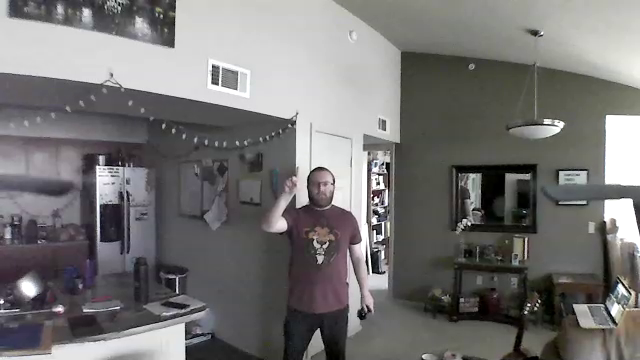up: (282, 161, 301, 196)
